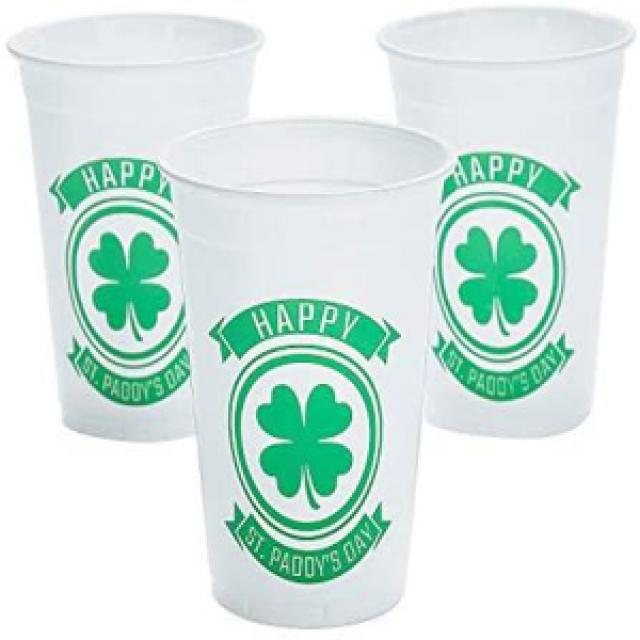plastic cup: (151, 109, 461, 636), (4, 9, 269, 450), (379, 2, 640, 445)
